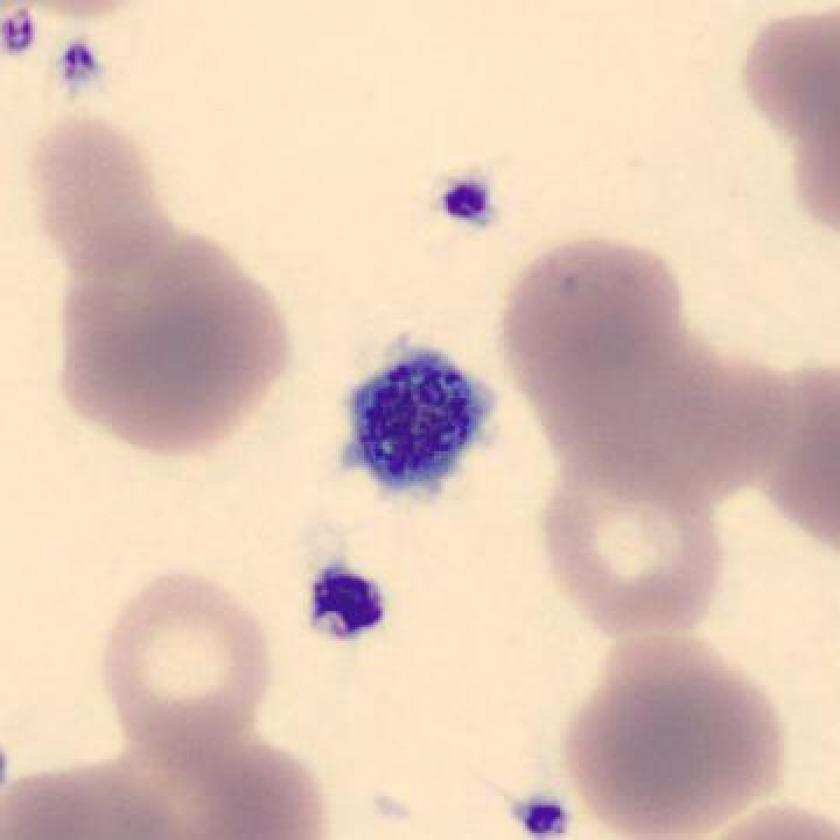platelets: (332, 321, 512, 520), (303, 559, 392, 648), (56, 31, 107, 104), (502, 792, 578, 840), (437, 175, 495, 230), (4, 6, 47, 63)
